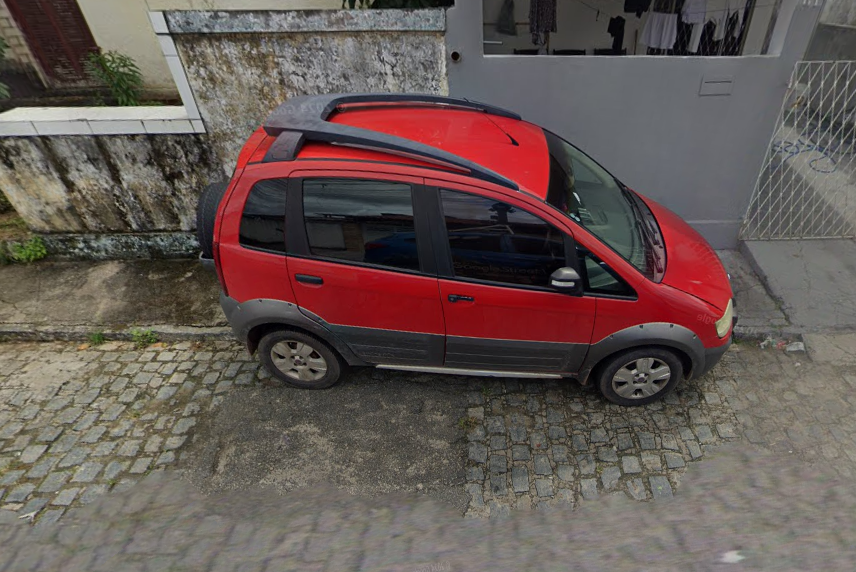car: (196, 89, 740, 406)
